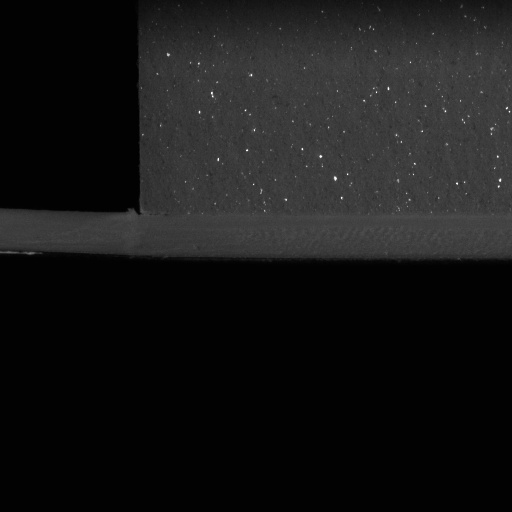changdai: (0, 207, 142, 259)
